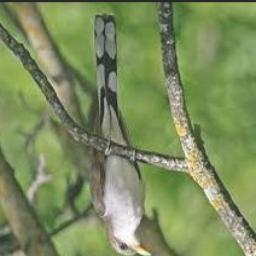Cuckoo: (87, 14, 152, 256)
